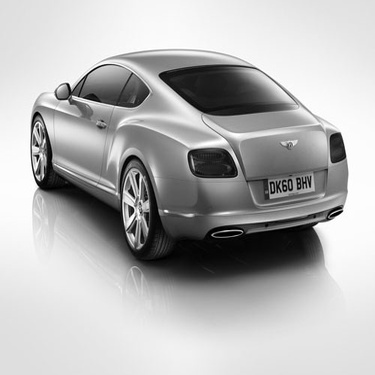car: (19, 41, 351, 275)
